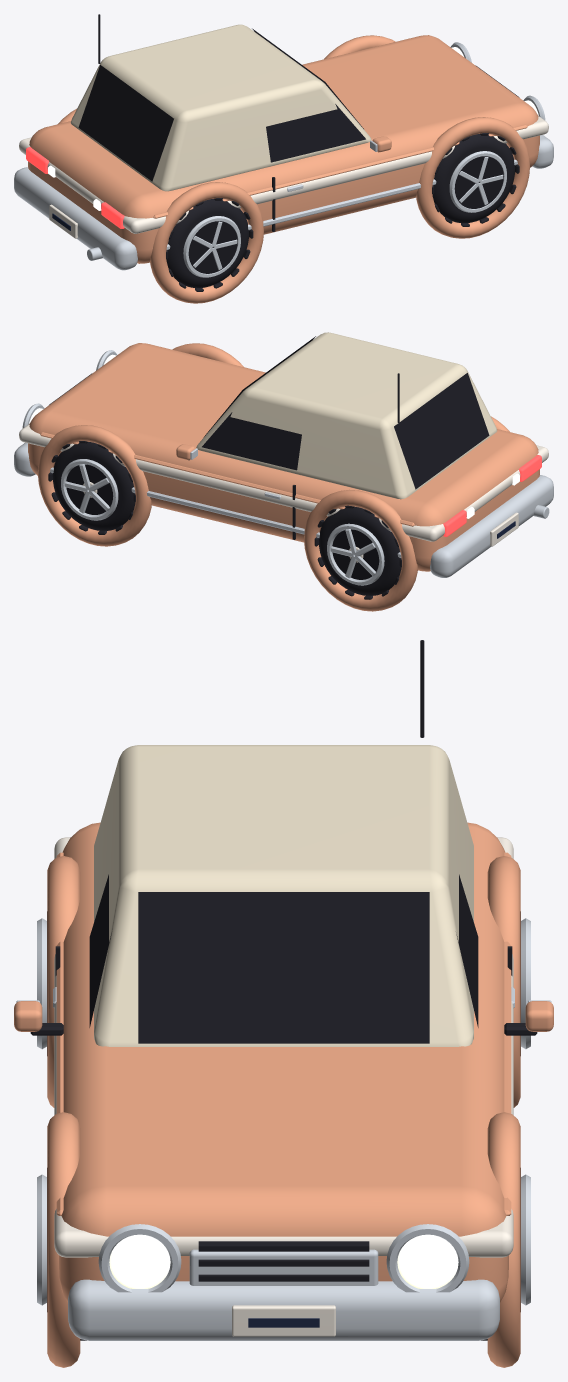
The model's file is car.glb.
3 renders of one model, top to bottom at view 1: azimuth 30°, elevation 25°; view 2: azimuth 150°, elevation 25°; view 3: azimuth 270°, elevation 25°, orthographic. The views are drawn at different scales.
Parts seen in each view (by area): view 1: car; view 2: car; view 3: car.
Part boxes in pixels (x1,y1,x2,y2): car: (14,14,553,303); car: (14,332,553,611); car: (14,640,553,1367).
Size of the model in its own units: 4.34 by 2.06 by 2.28.
Materials: 1 (1 with a texture image).
